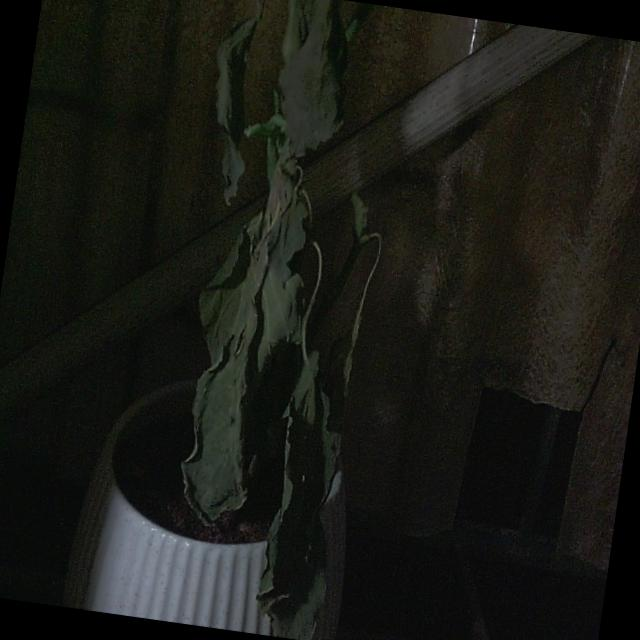Leaf: (175, 231, 284, 532), (252, 363, 357, 640)
